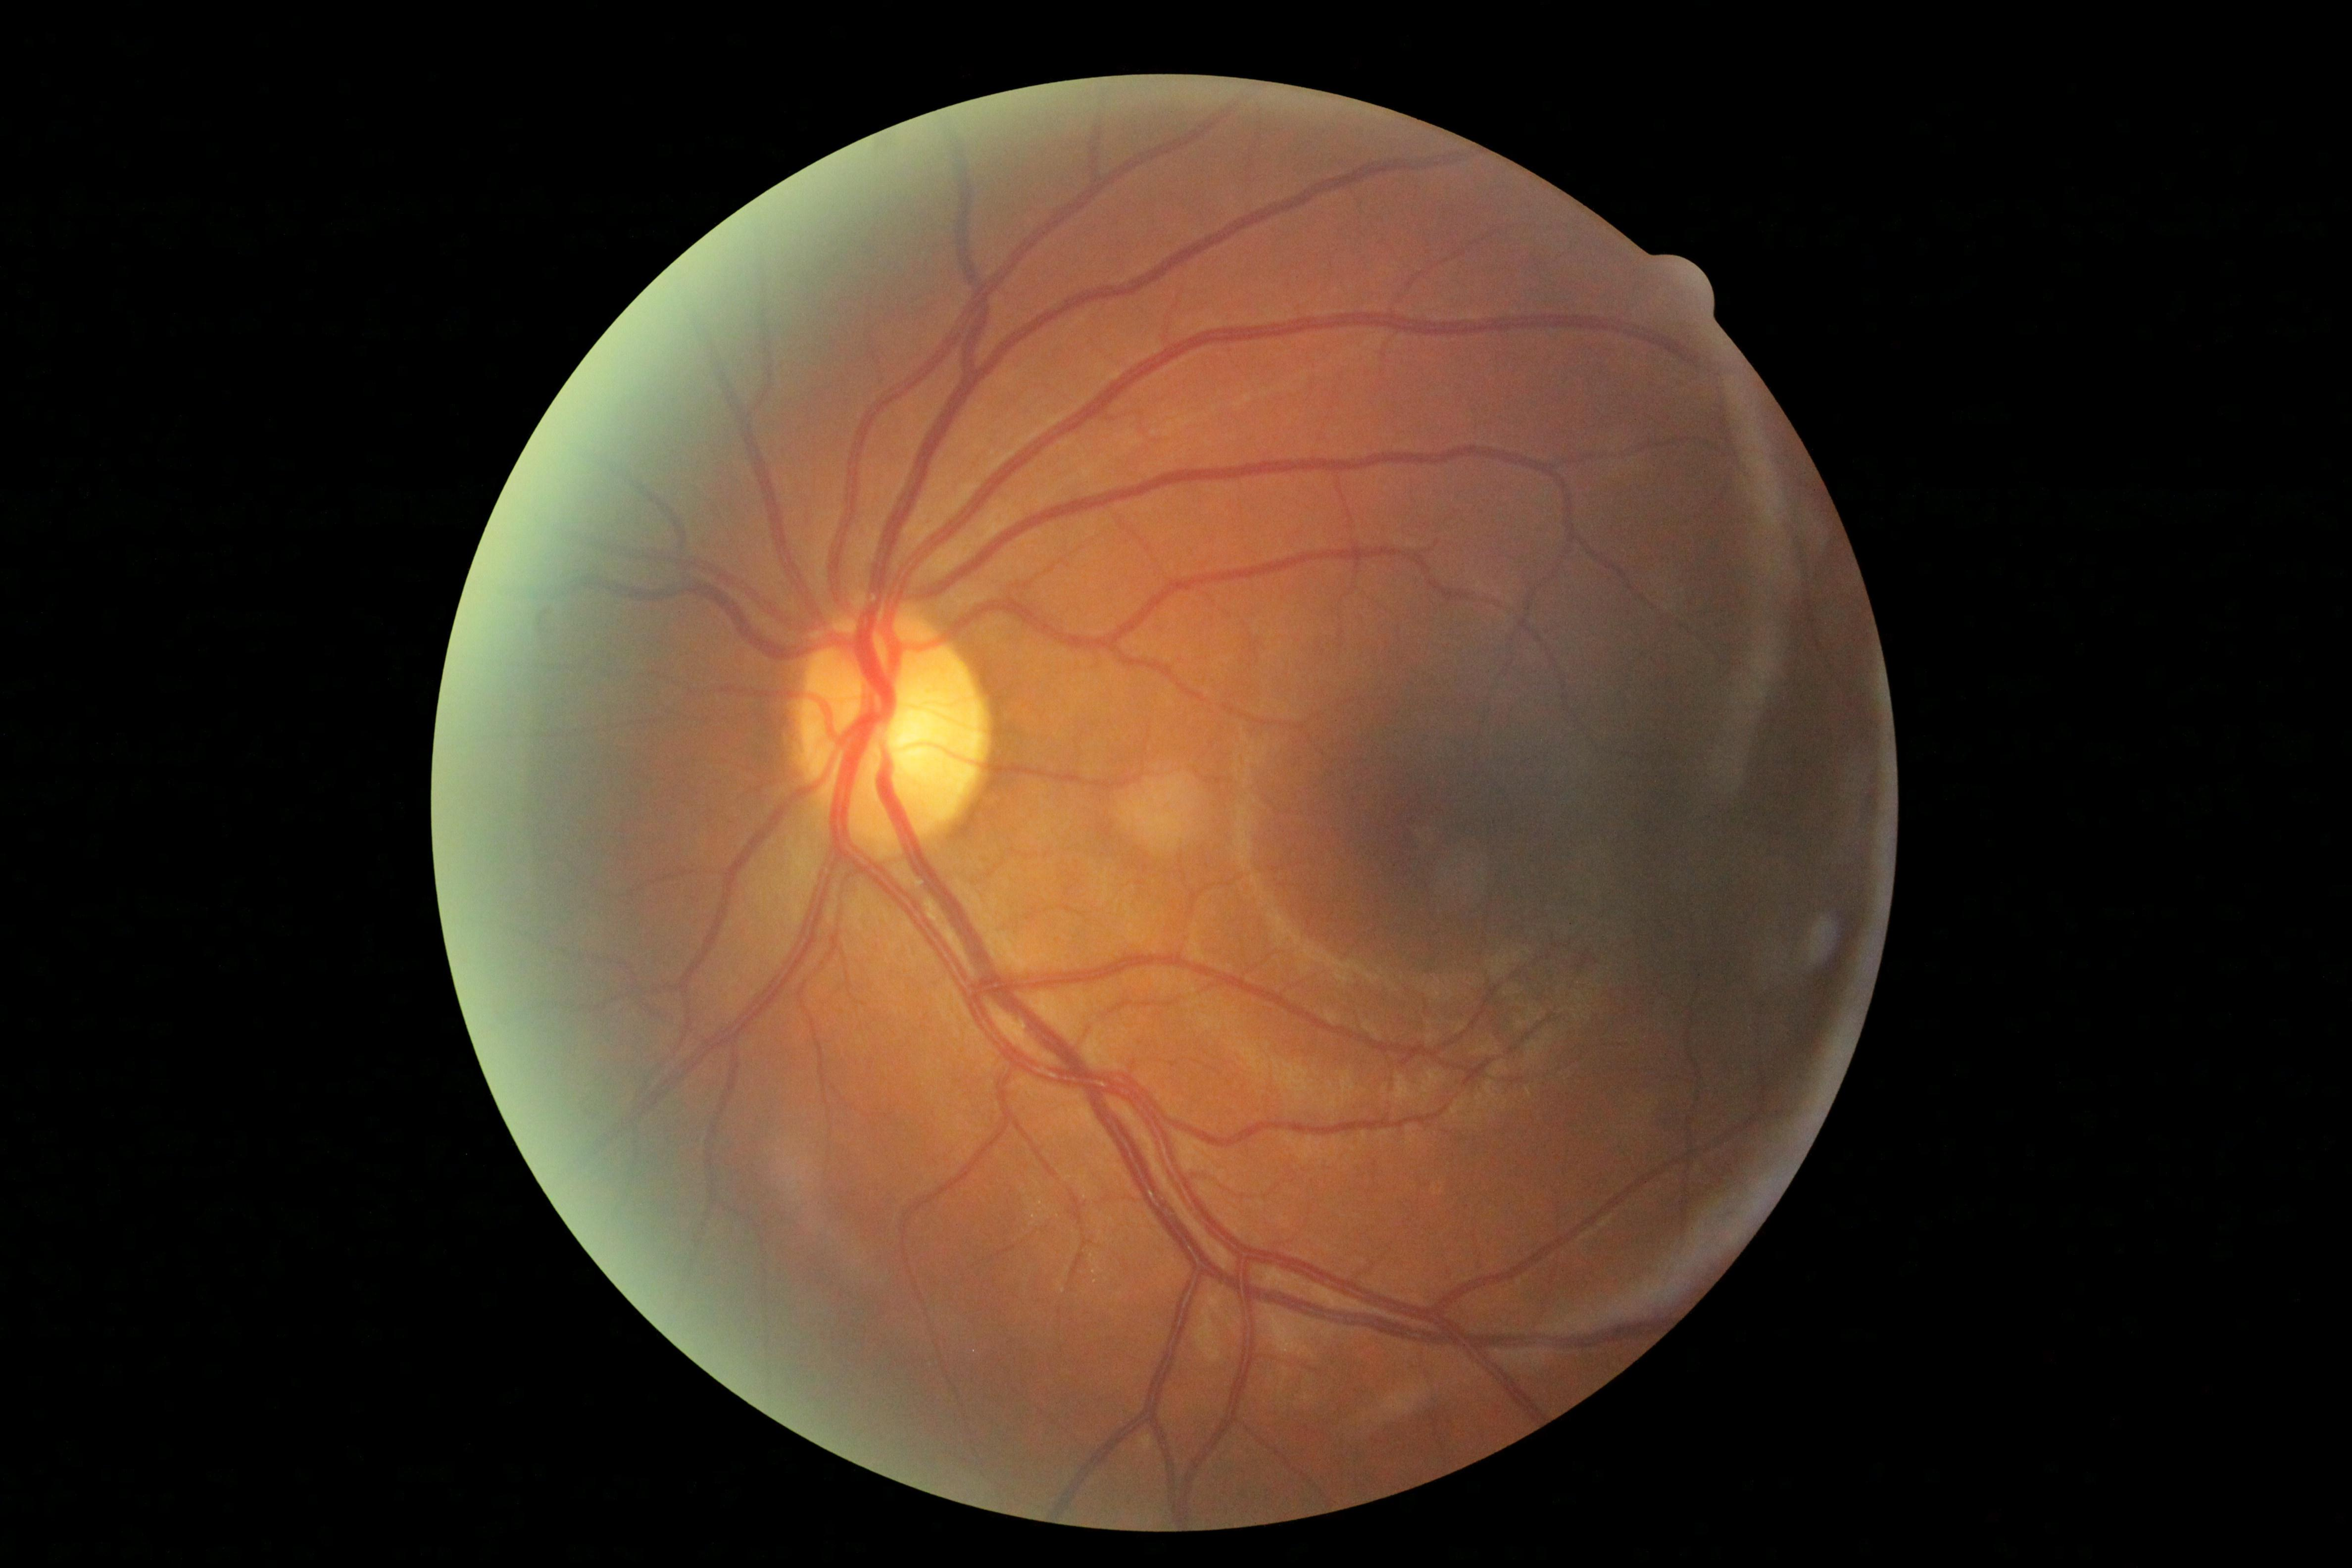Optic-nerve: (782, 609, 999, 857)
macula: (1381, 702, 1722, 966)
notch: (1643, 248, 1731, 336)
